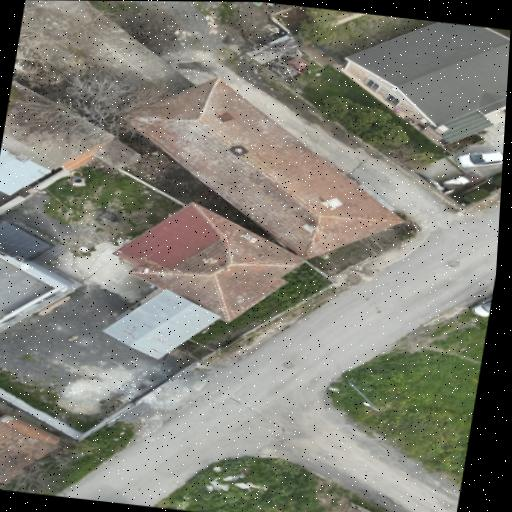car: (457, 151, 502, 167), (471, 297, 491, 316)
